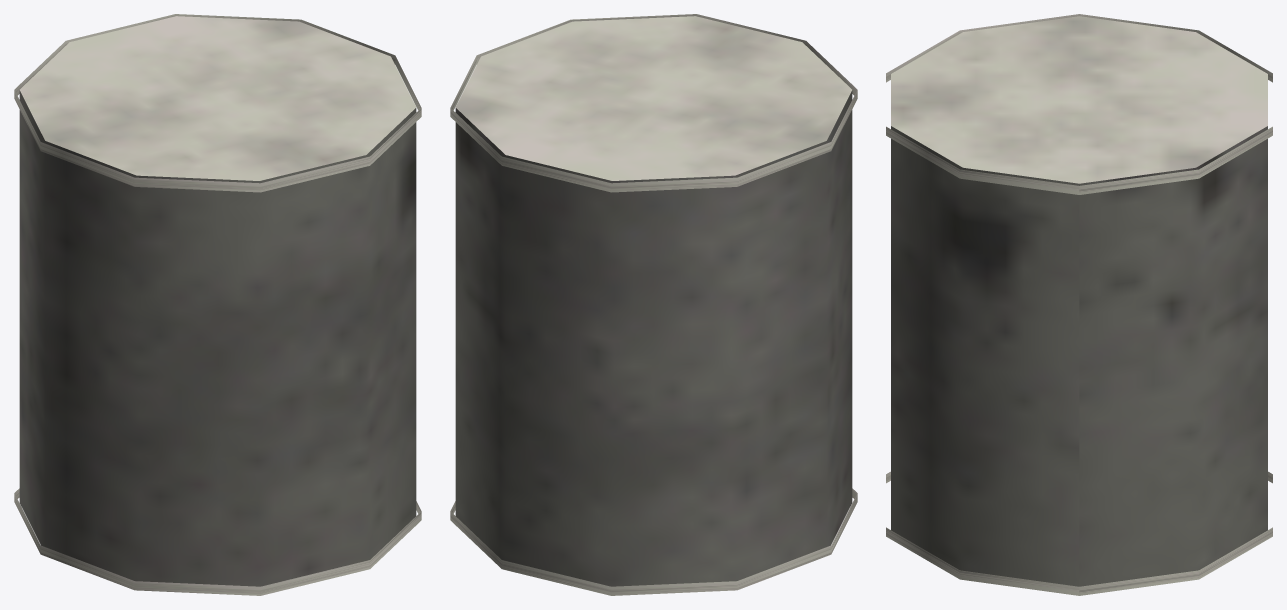
File: can_tomatoes.fbx
3 renders of one model, left to right at view 1: azimuth 30°, elevation 25°; view 2: azimuth 150°, elevation 25°; view 3: azimuth 270°, elevation 25°, orthographic.
Visible parts, largest first — view 1: can_tomatoes; view 2: can_tomatoes; view 3: can_tomatoes.
Boxes of the visible parts, x1,y1,x2,y2 form: can_tomatoes: [14, 14, 421, 595]; can_tomatoes: [450, 14, 857, 595]; can_tomatoes: [886, 14, 1272, 595].
Bounding box in the file's own units: 0.16 × 0.178 × 0.1522.
